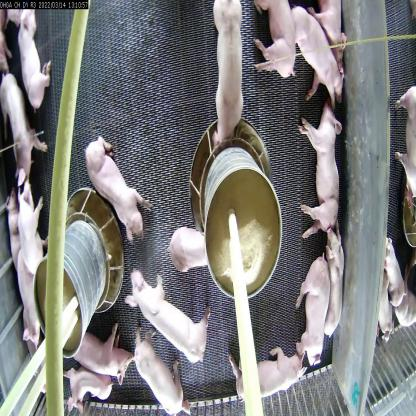Pig: (124, 261, 206, 357), (202, 0, 251, 145), (83, 128, 145, 236), (7, 0, 56, 120), (294, 111, 340, 226), (235, 349, 314, 413), (293, 252, 335, 366), (129, 340, 188, 416), (324, 232, 359, 351), (0, 72, 36, 179), (14, 183, 57, 265), (67, 328, 134, 377), (63, 350, 116, 411), (169, 218, 217, 284), (10, 246, 41, 344)
